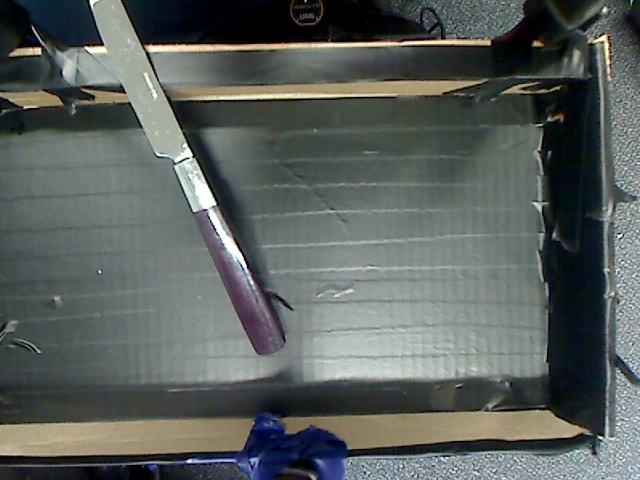knife: (68, 1, 307, 370)
